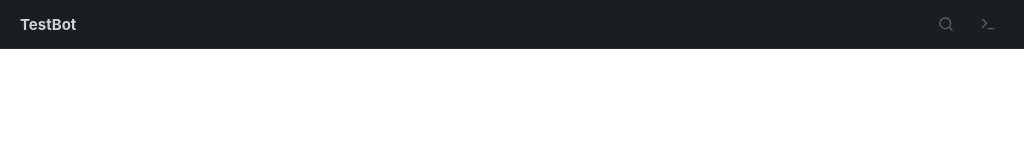
ChatArea › when agent is ready › search functionality › highlights matching messages
// Open search
Press f
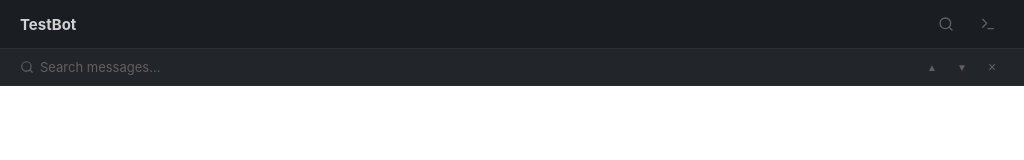
// Type a query
Type "Hello" into the field with placeholder "Search messages…". click: (477, 67)
box: top-left (40, 59), bottom-right (914, 75)
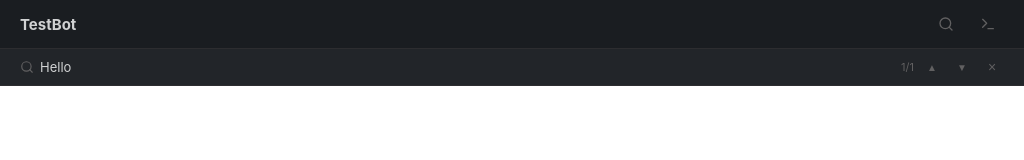
Now the text "1/1" is shown, box top-left (901, 60), bottom-right (914, 74)
